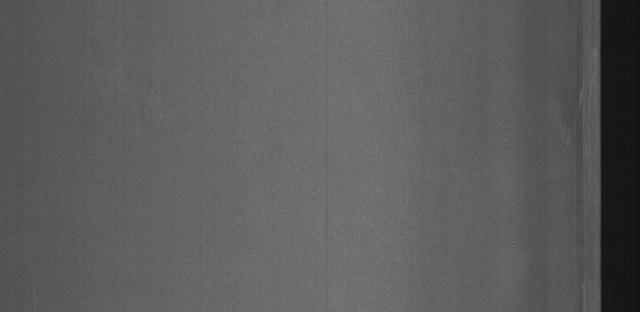silk_spot: (551, 23, 598, 181)
